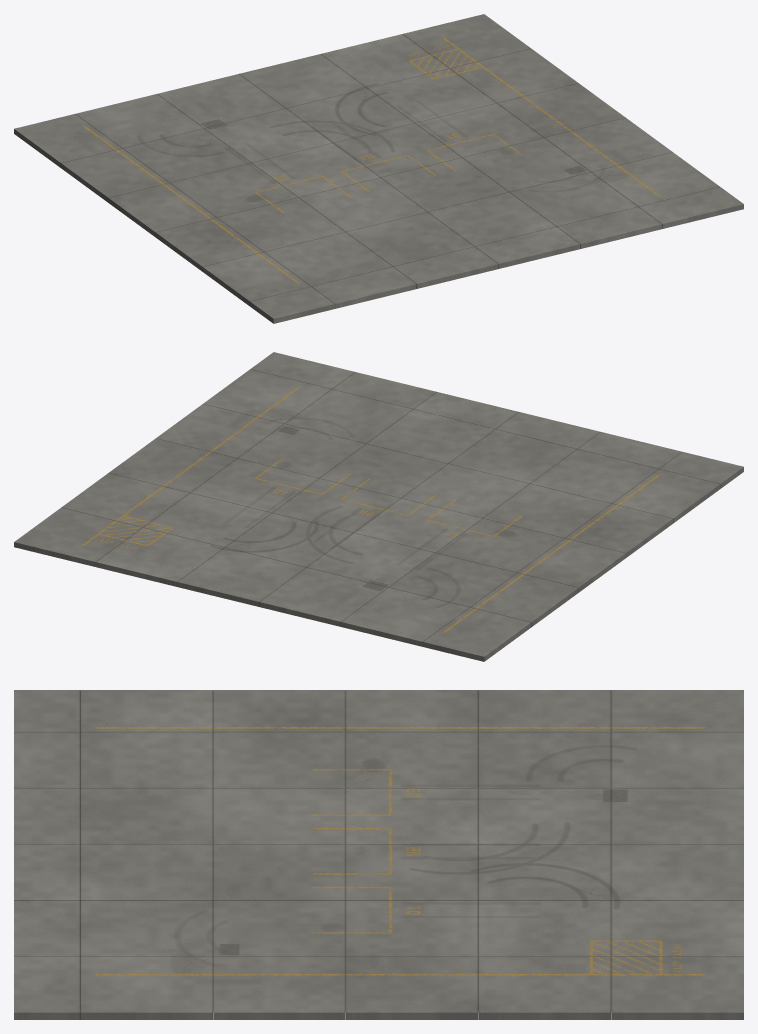
File: warehouse-floor.fbx
3 views of the same model, one above another, from view 1: azimuth 30°, elevation 25°; view 2: azimuth 150°, elevation 25°; view 3: azimuth 270°, elevation 25° (orthographic). The views are drawn at different scales.
Parts seen in each view (by area): view 1: WarehouseFloor; view 2: WarehouseFloor; view 3: WarehouseFloor.
Part boxes in pixels (x1,y1,x2,y2): WarehouseFloor: (14,14,743,323); WarehouseFloor: (14,352,743,661); WarehouseFloor: (14,690,743,1019).
Bounding box in the file's own units: 2300 × 24 × 2200.
